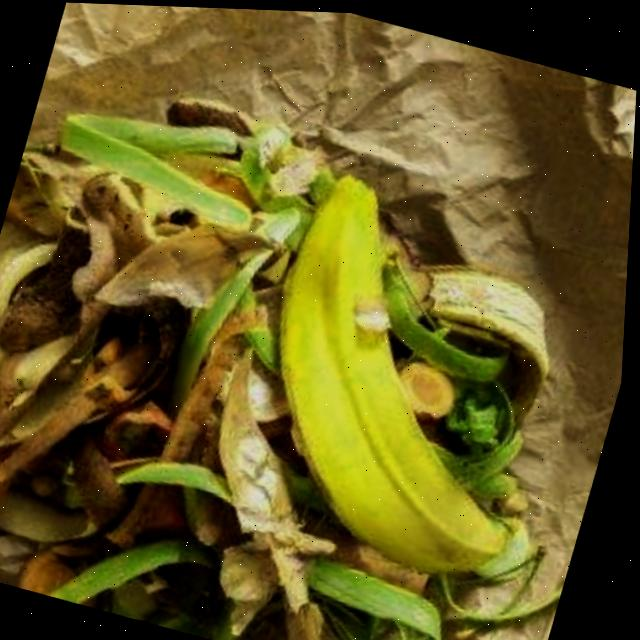Garbage: (0, 97, 568, 640), (284, 173, 513, 566)
